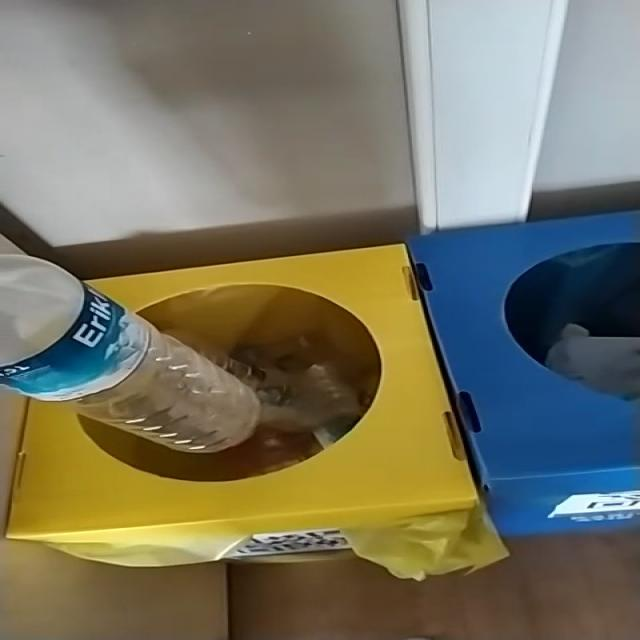plastic: (1, 255, 261, 454)
